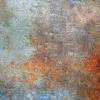rust: (24, 43, 58, 84), (79, 40, 99, 100)
